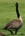goose: (1, 1, 25, 35)
